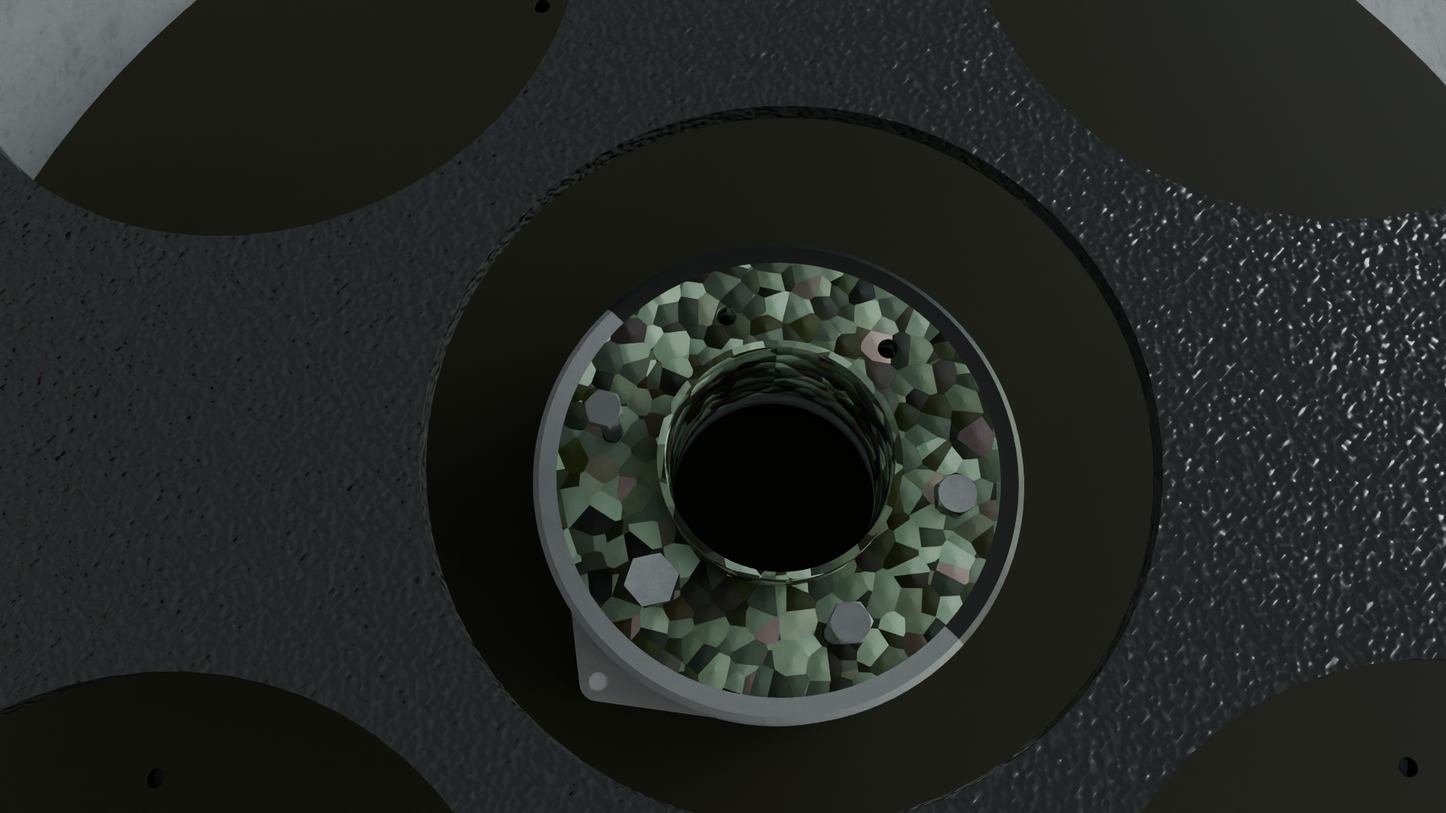bolt: (624, 553, 679, 607), (828, 601, 874, 644), (937, 473, 978, 516), (584, 389, 622, 426)
